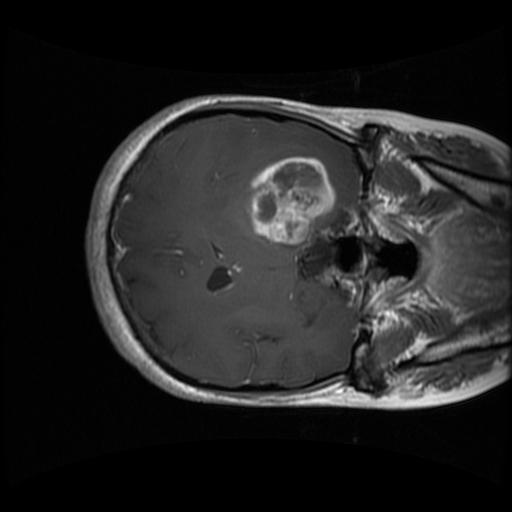glioma: (240, 155, 339, 250)
